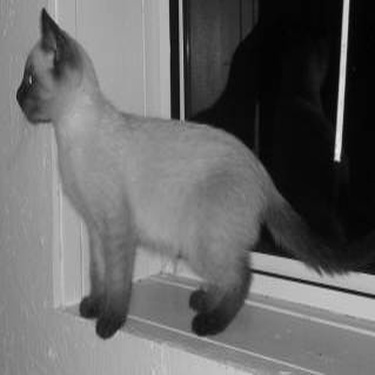cat: (16, 6, 372, 341)
